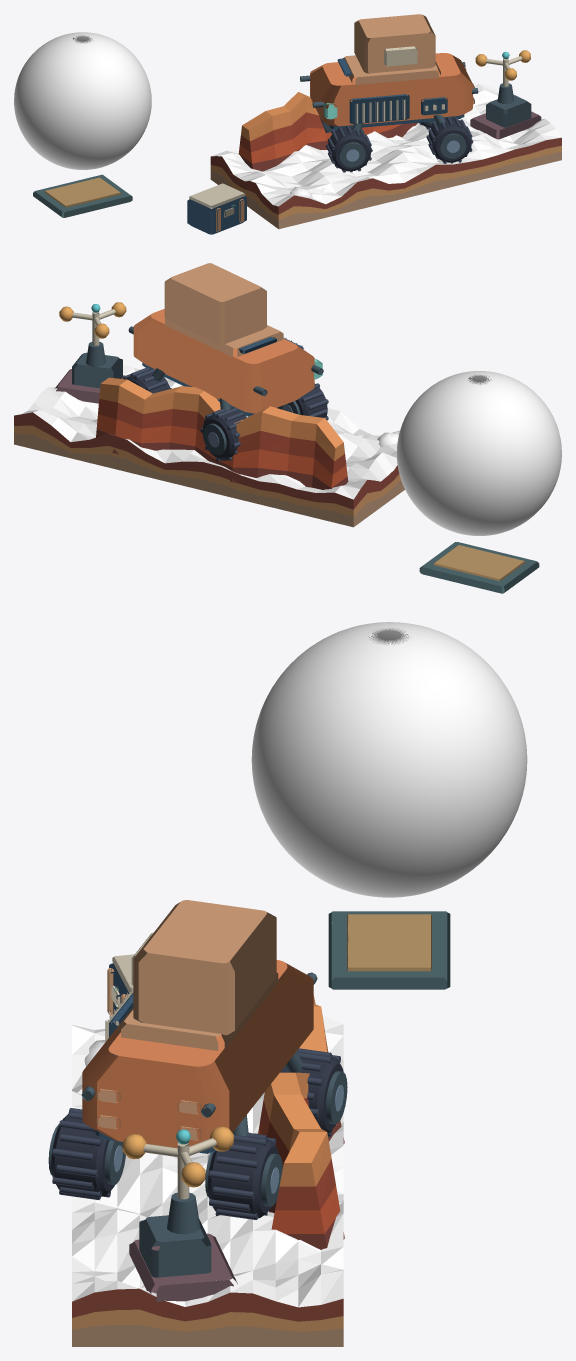
The model's file is tierra-incendio.obj.
3 views of the same model, one above another, from view 1: azimuth 30°, elevation 25°; view 2: azimuth 150°, elevation 25°; view 3: azimuth 270°, elevation 25° (orthographic). The views are drawn at different scales.
Parts seen in each view (by area): view 1: tierra-incendio; view 2: tierra-incendio; view 3: tierra-incendio.
Boxes of the visible parts, <box> form: tierra-incendio: <box>14,14,561,234</box>; tierra-incendio: <box>14,263,561,593</box>; tierra-incendio: <box>48,622,527,1346</box>.
Bounding box in the file's own units: 1.53 × 0.5093 × 0.6877.
